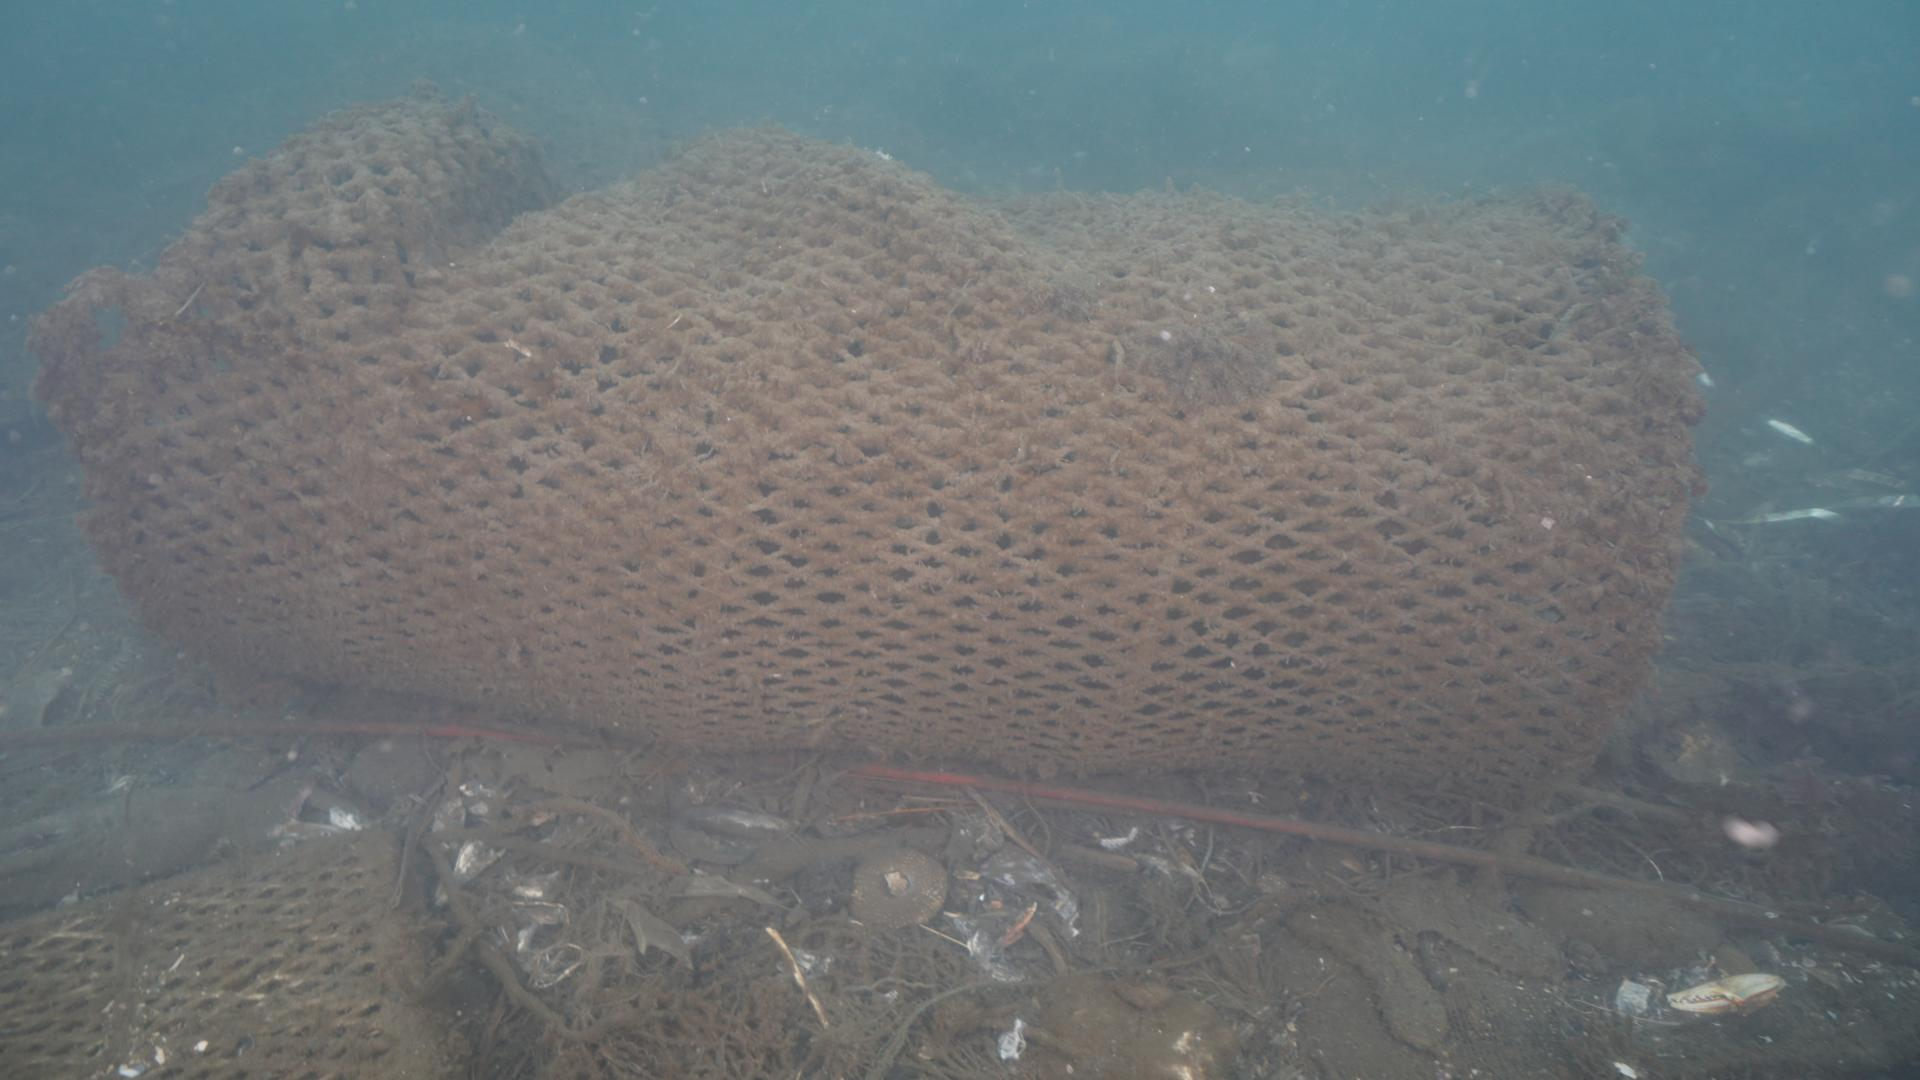fish net: (0, 815, 462, 1080)
spring fish trap: (28, 99, 1710, 796)
